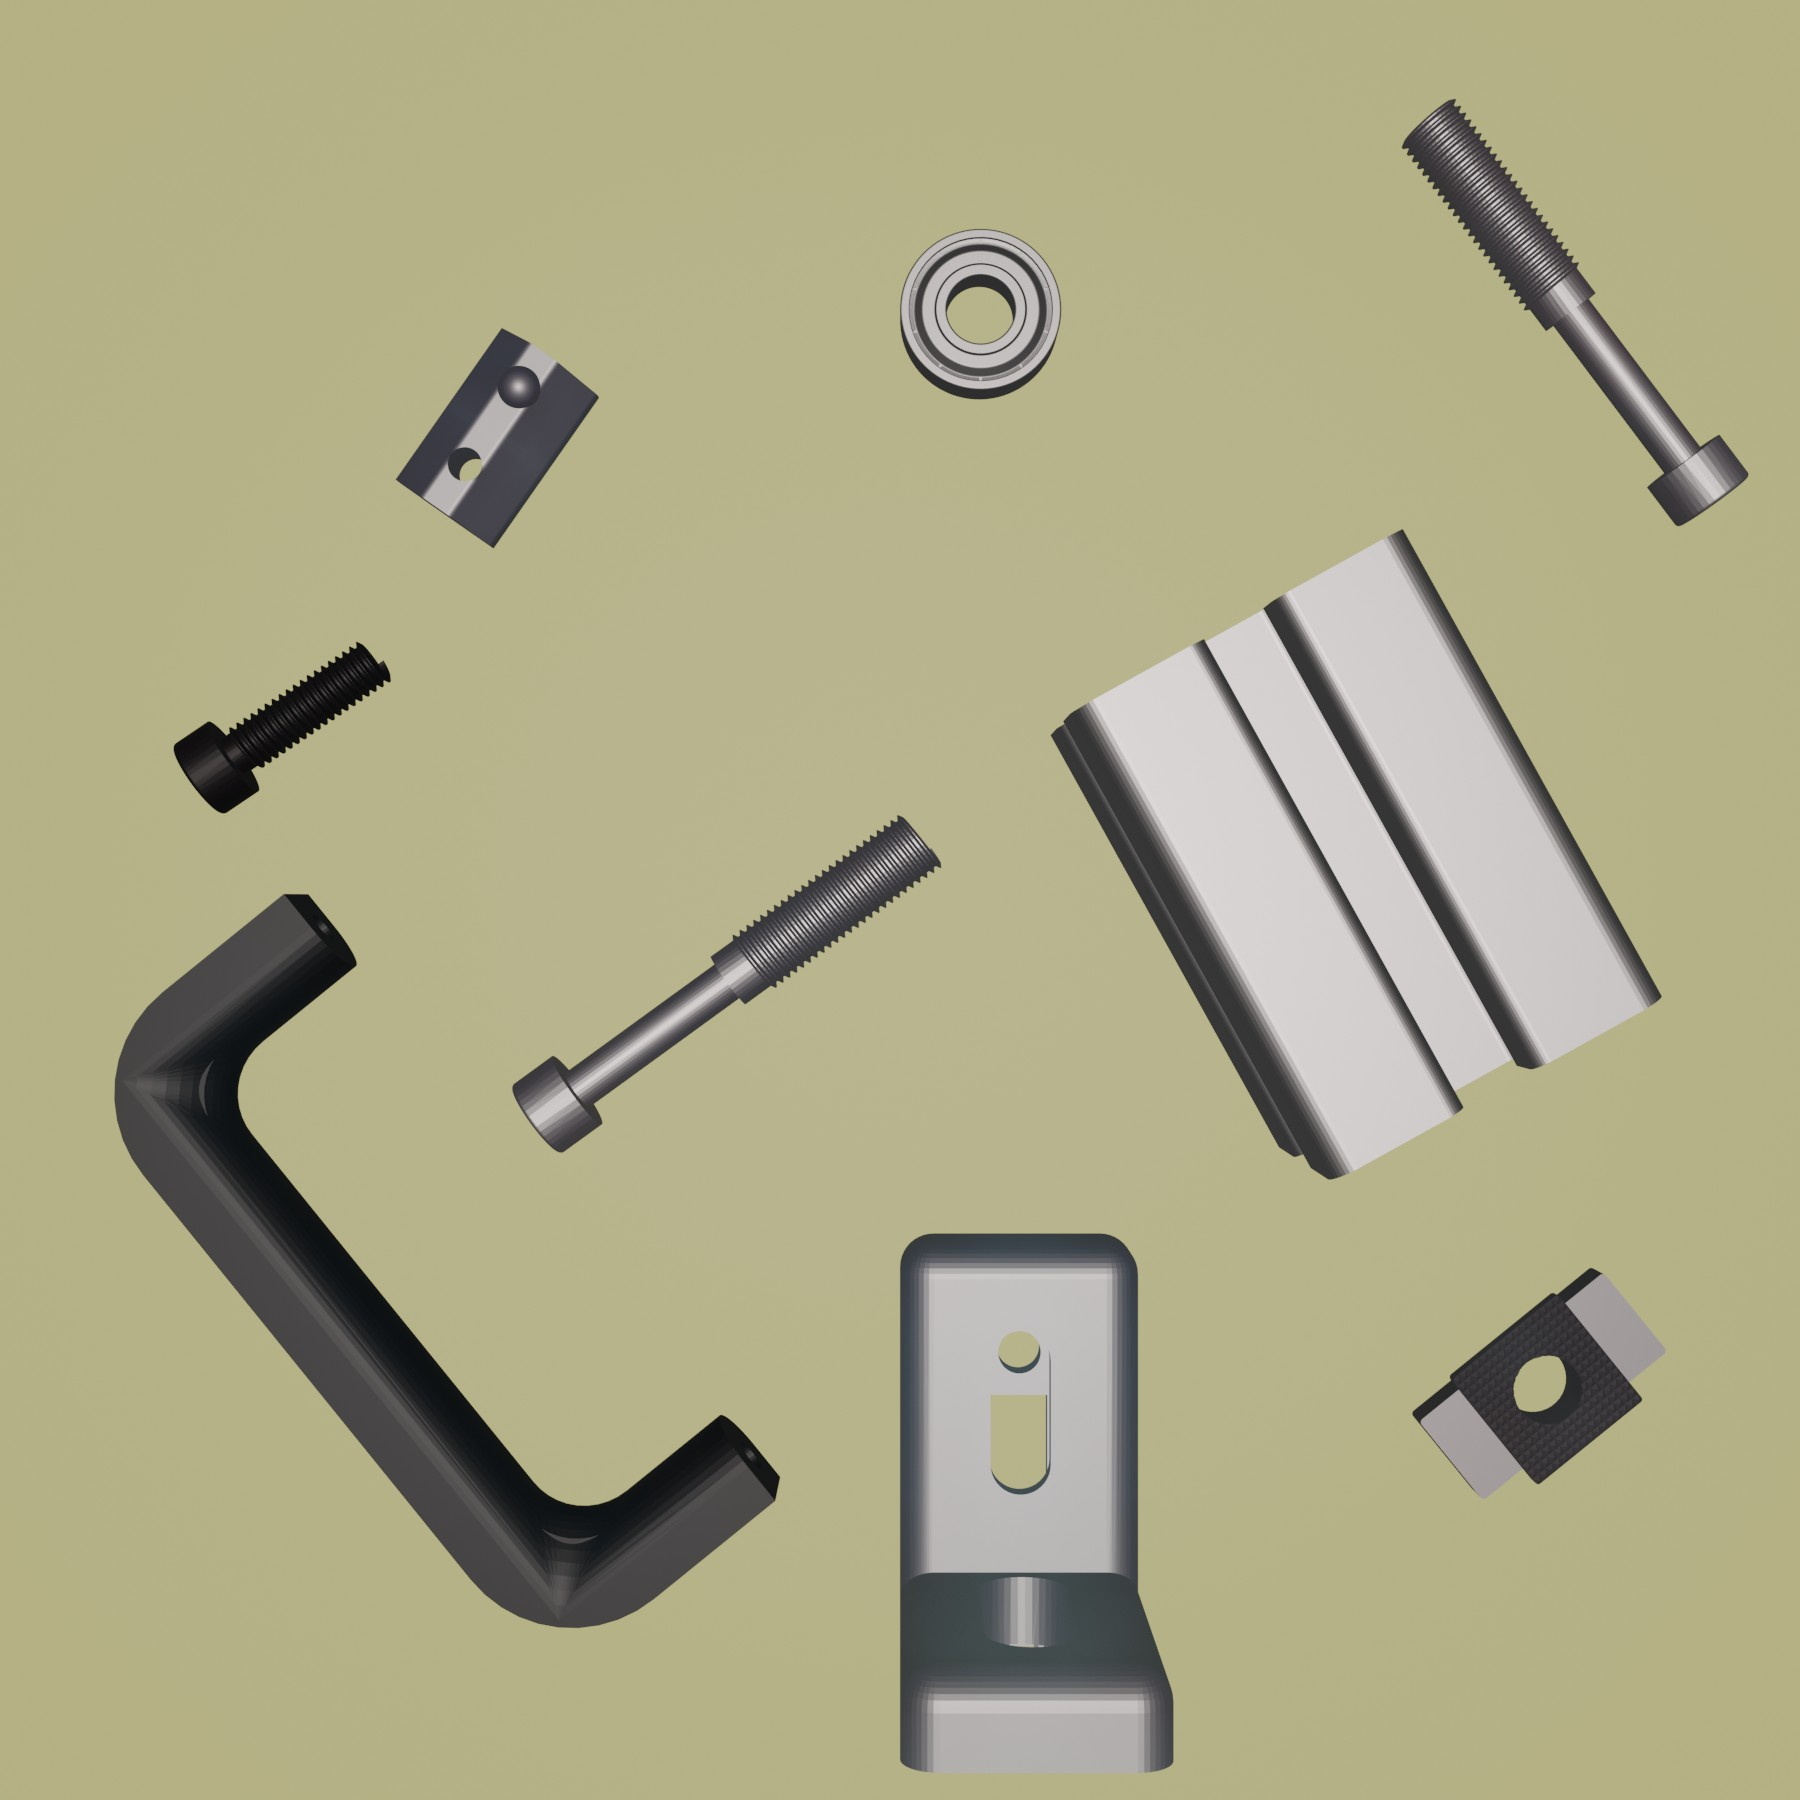Aluminium Extension: (1047, 524, 1665, 1180)
Ball Bearing: (897, 224, 1065, 402)
Multiwinkel: (897, 1230, 1177, 1780)
Pull Handle: (114, 888, 781, 1630)
Shoulder Socket Head Cap Screw: (1398, 96, 1751, 531), (513, 811, 943, 1155)
Socket Head Cap Screw: (170, 638, 394, 816)
T Nut Square: (1409, 1263, 1670, 1502)
T Spring Nut: (391, 326, 600, 551)
